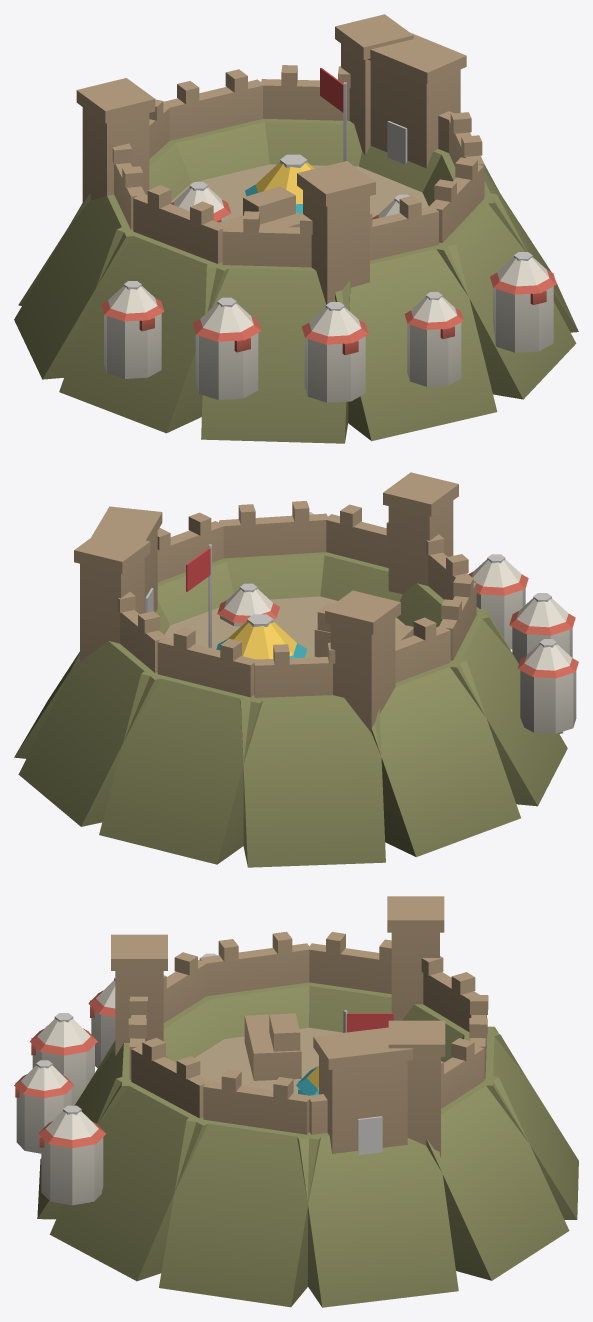
Rendered from castle_steppe_b.glb.
3 renders of one model, top to bottom at view 1: azimuth 30°, elevation 25°; view 2: azimuth 150°, elevation 25°; view 3: azimuth 270°, elevation 25°, orthographic. The views are drawn at different scales.
Parts seen in each view (by area): view 1: castle_steppe_b; view 2: castle_steppe_b; view 3: castle_steppe_b.
Boxes of the visible parts, left/top/right/bottom form: castle_steppe_b: left=14, top=14, right=578, bottom=443; castle_steppe_b: left=14, top=472, right=578, bottom=867; castle_steppe_b: left=14, top=896, right=578, bottom=1307.
Size of the model in its own units: 1.86 by 0.805 by 1.88.
